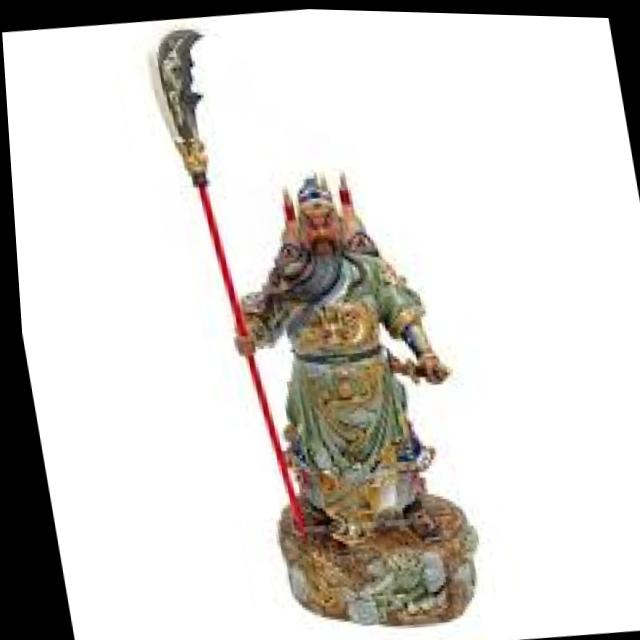Guan Yu: (203, 161, 454, 543)
